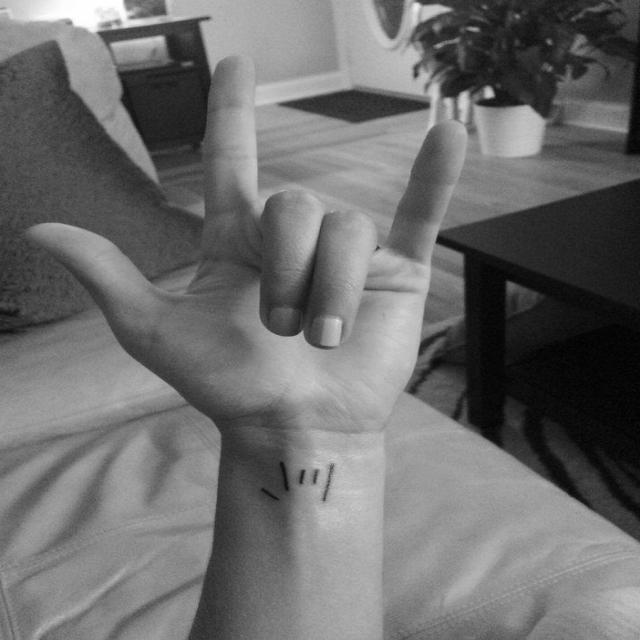i love you: (14, 48, 477, 437)
